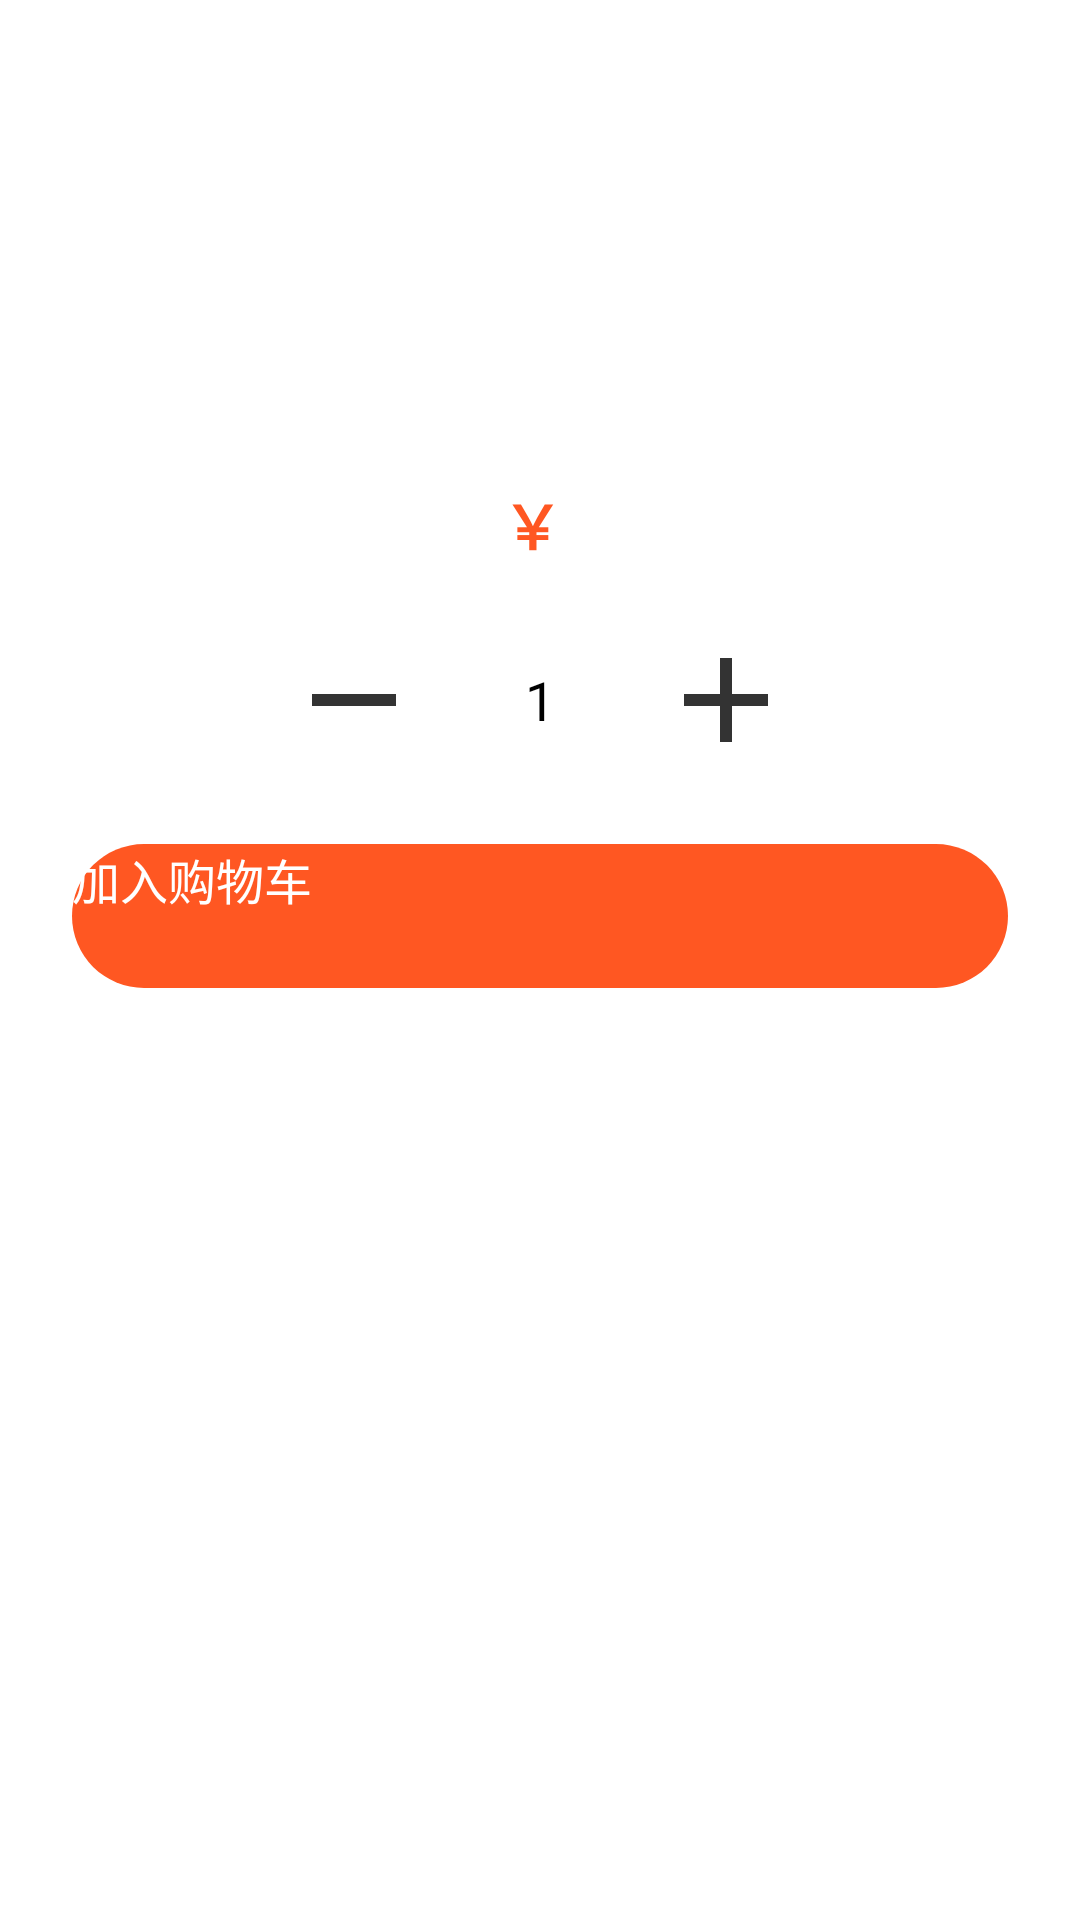

Where icons sit on this 1080px x 1920px app screen, as {"left": x1, "top": y1, "right": x2, "bottom": y2}:
plus: {"left": 684, "top": 658, "right": 768, "bottom": 742}
